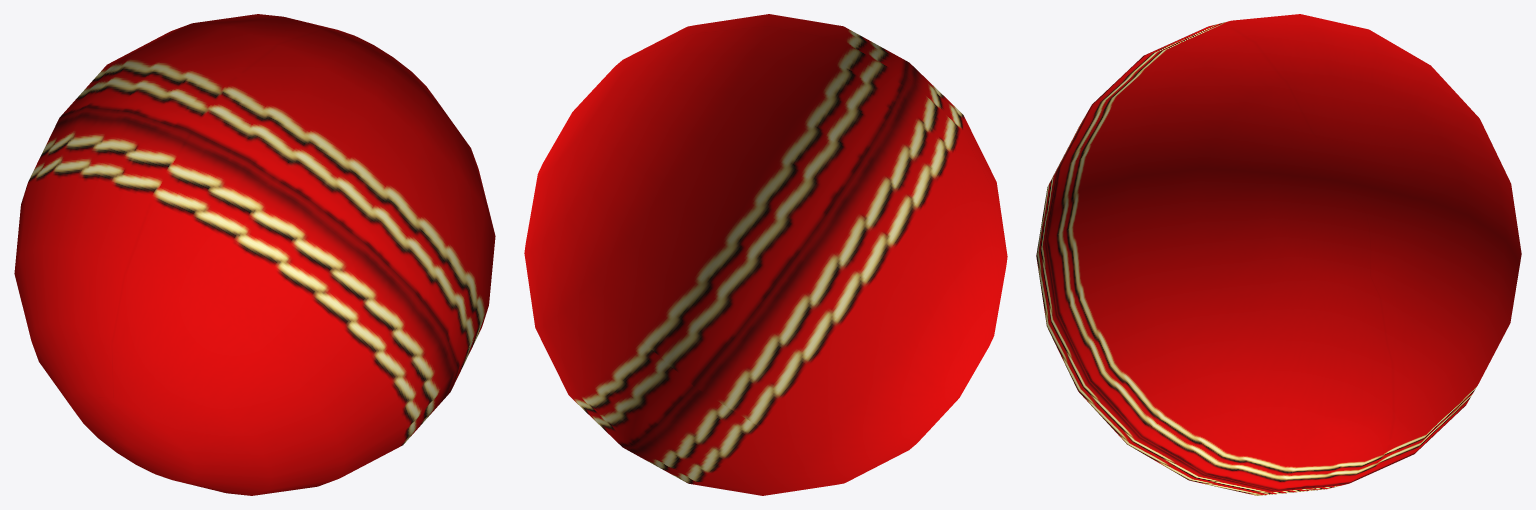
Rendered from Model_Ball.fbx.
The picture shows the model from 3 angles, left to right: view 1: azimuth 30°, elevation 25°; view 2: azimuth 150°, elevation 25°; view 3: azimuth 270°, elevation 25°; orthographic projection.
Parts seen in each view (by area): view 1: Ball1; view 2: Ball1; view 3: Ball1.
Part boxes in pixels (x1,y1,x2,y2): Ball1: (14,14,495,495); Ball1: (524,14,1007,495); Ball1: (1036,14,1521,495).
Size of the model in its own units: 13.94 by 13.93 by 13.97.
